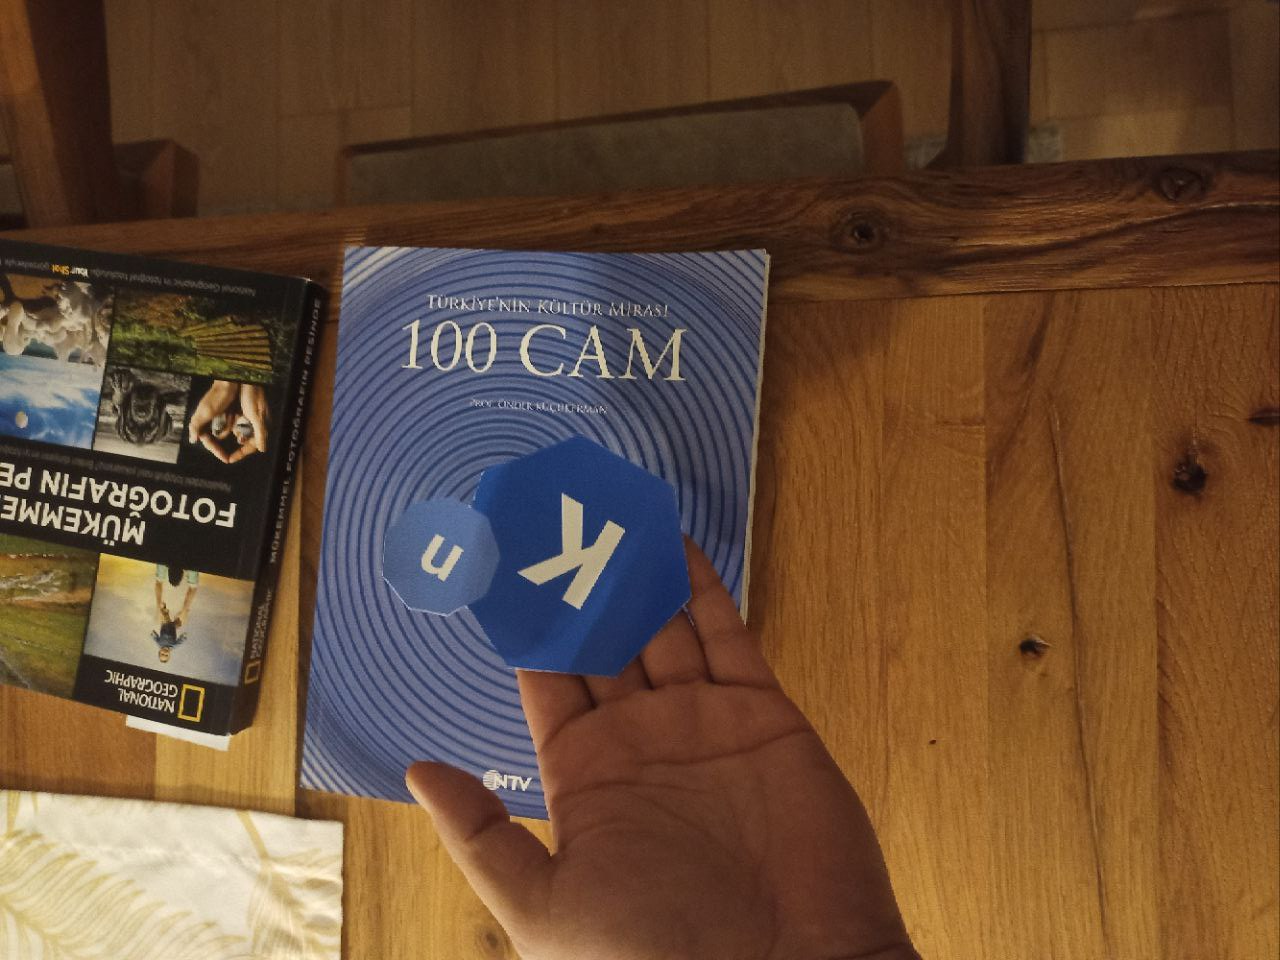knative: (379, 434, 691, 674)
